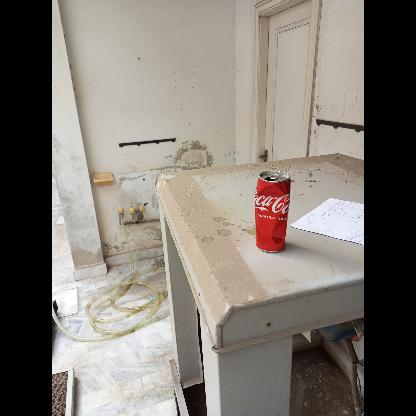Dent_Can: (254, 180, 289, 251)
Lid_Open: (264, 170, 282, 182)
Tin_Can: (254, 170, 290, 254)
